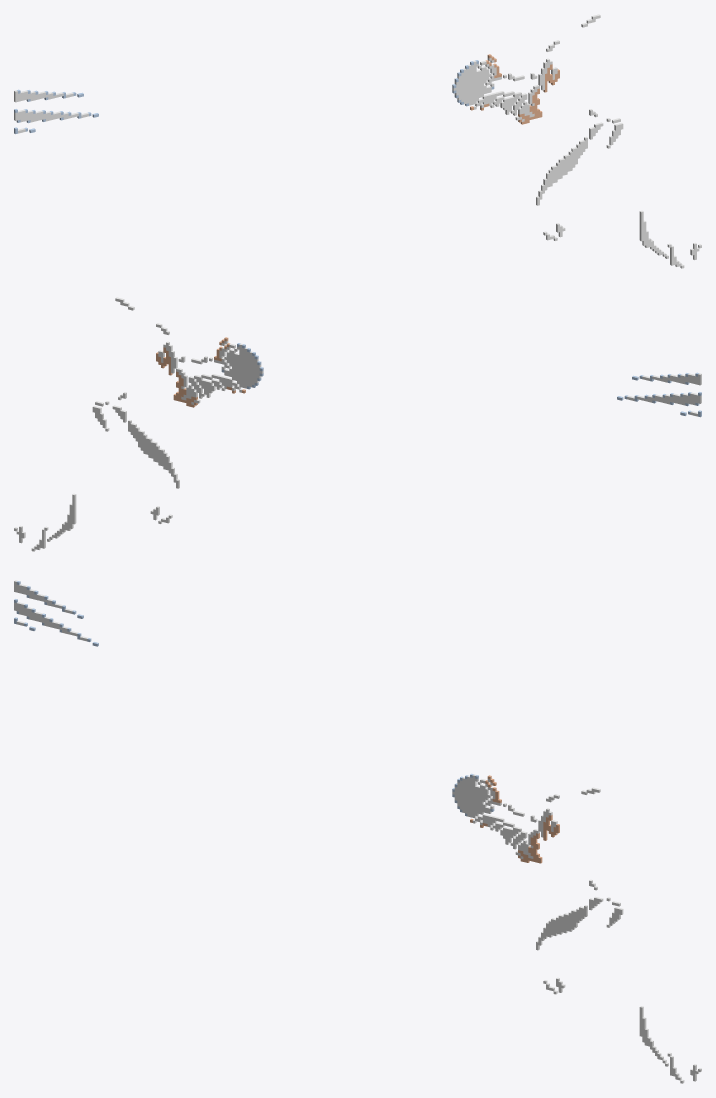
The model's file is Fight_028_2_17_fx.obj.
3 views of the same model, one above another, from view 1: azimuth 30°, elevation 25°; view 2: azimuth 150°, elevation 25°; view 3: azimuth 330°, elevation 25° (orthographic).
Size of the model in its own units: 27.1 by 12.8 by 0.1.
